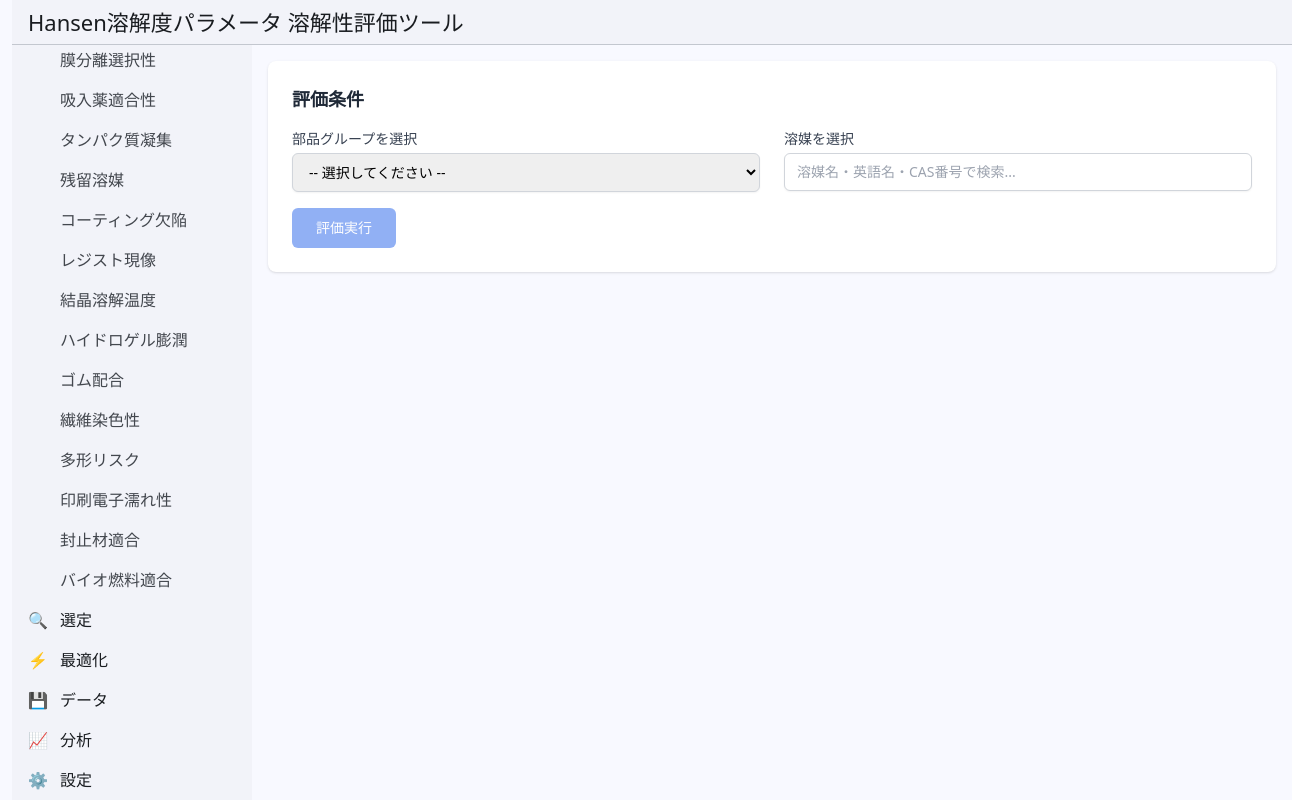
App › ナビ項目クリックでビューが切り替わる
(page scrolled)
Note: 「設定」カテゴリをクリック（展開）
Click the text "設定" at (76, 780), box [60,768,92,792]
(page scrolled)
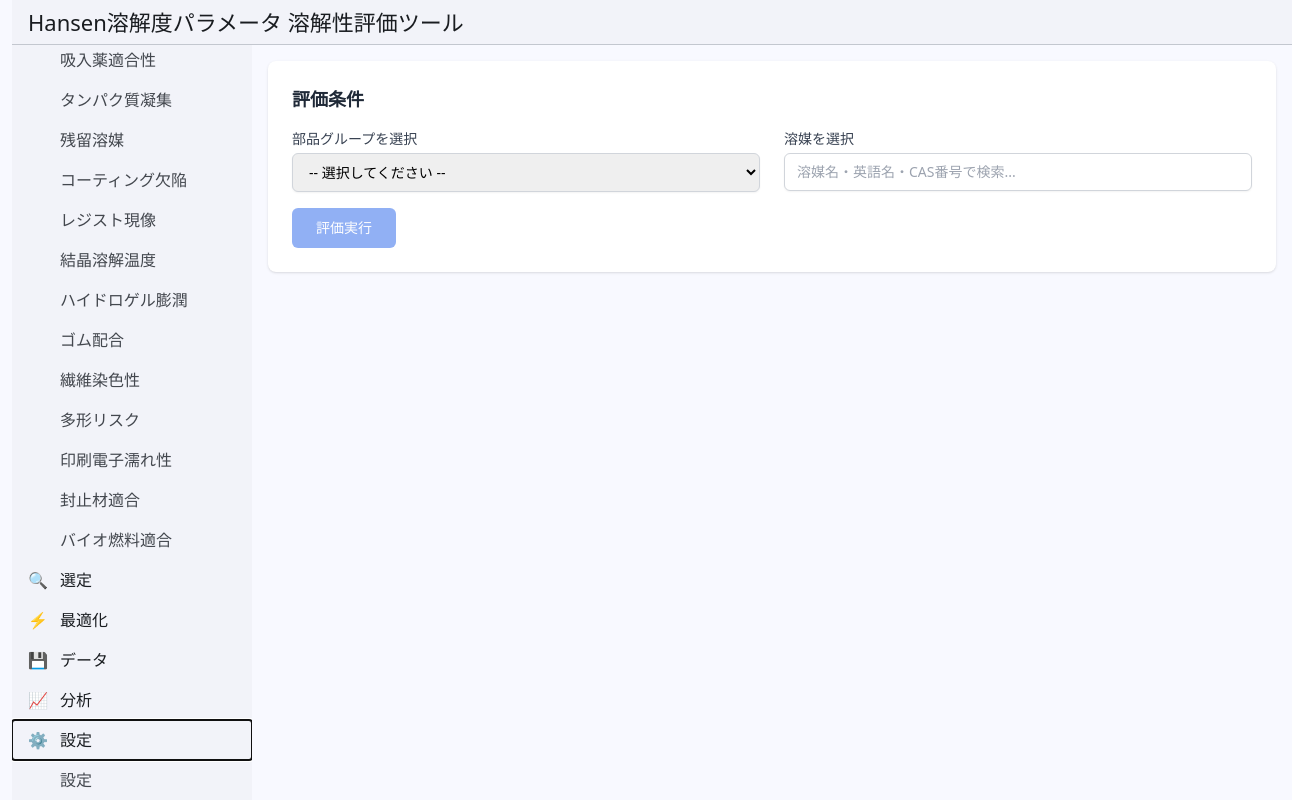
Note: Click the last one (sub-item, not category header)
Click the button "設定" at (132, 780), box [12,760,252,799]
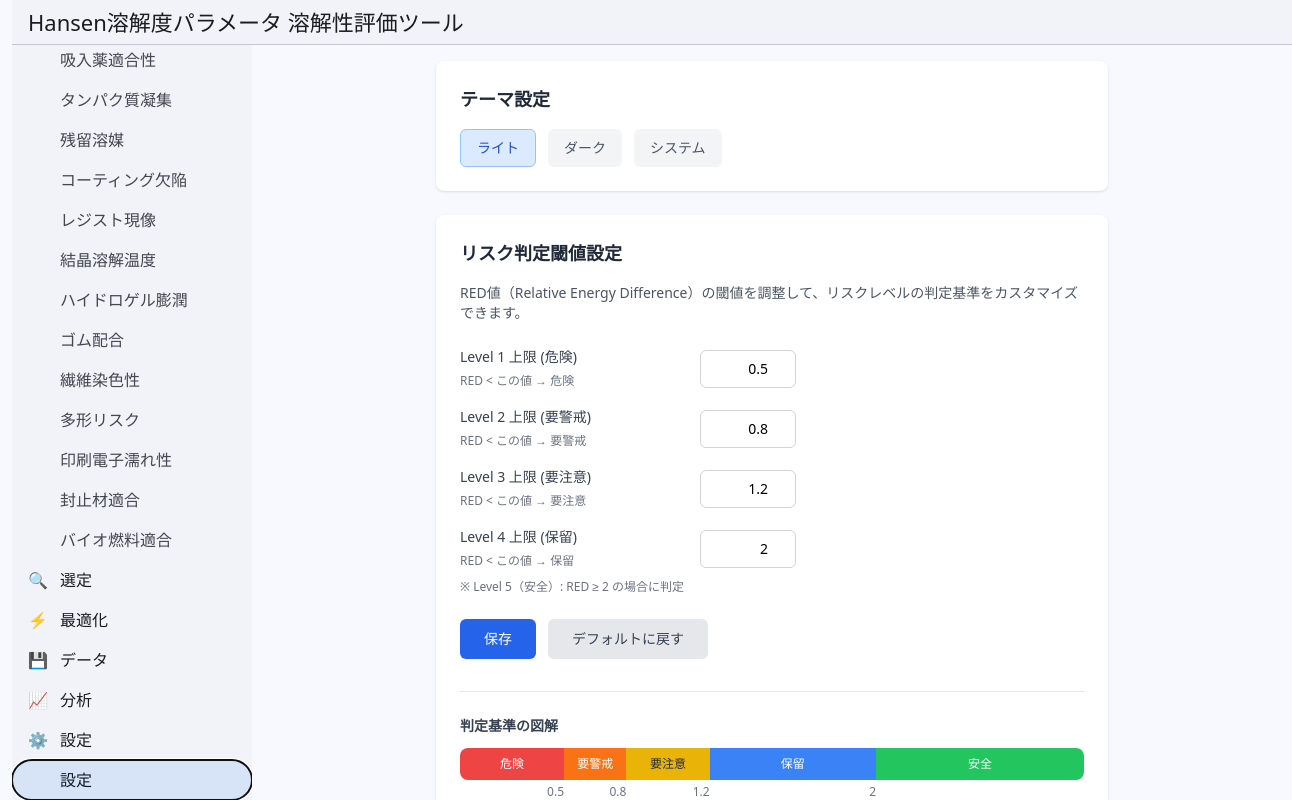
Now the heading "リスク判定閾値設定" is shown, box [460,241,622,265]
